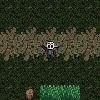Jason: (40, 40, 58, 60)
Obstacle: (22, 85, 40, 100)
Slow: (40, 85, 80, 100)
